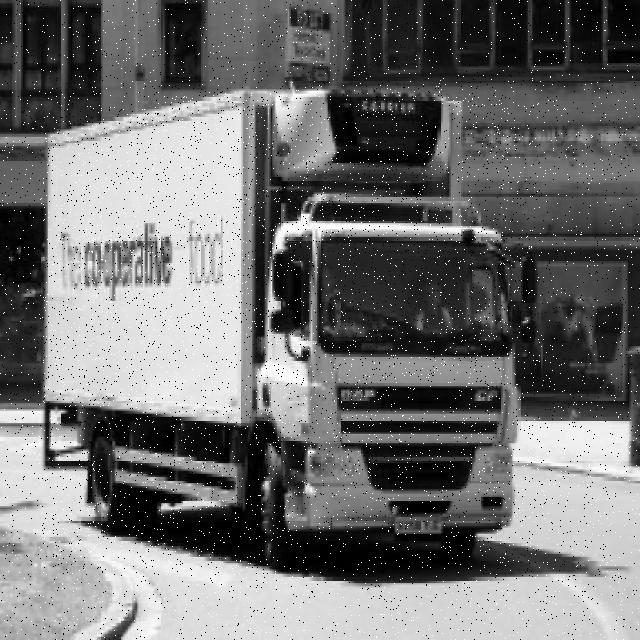Box Truck: (43, 86, 538, 570)
